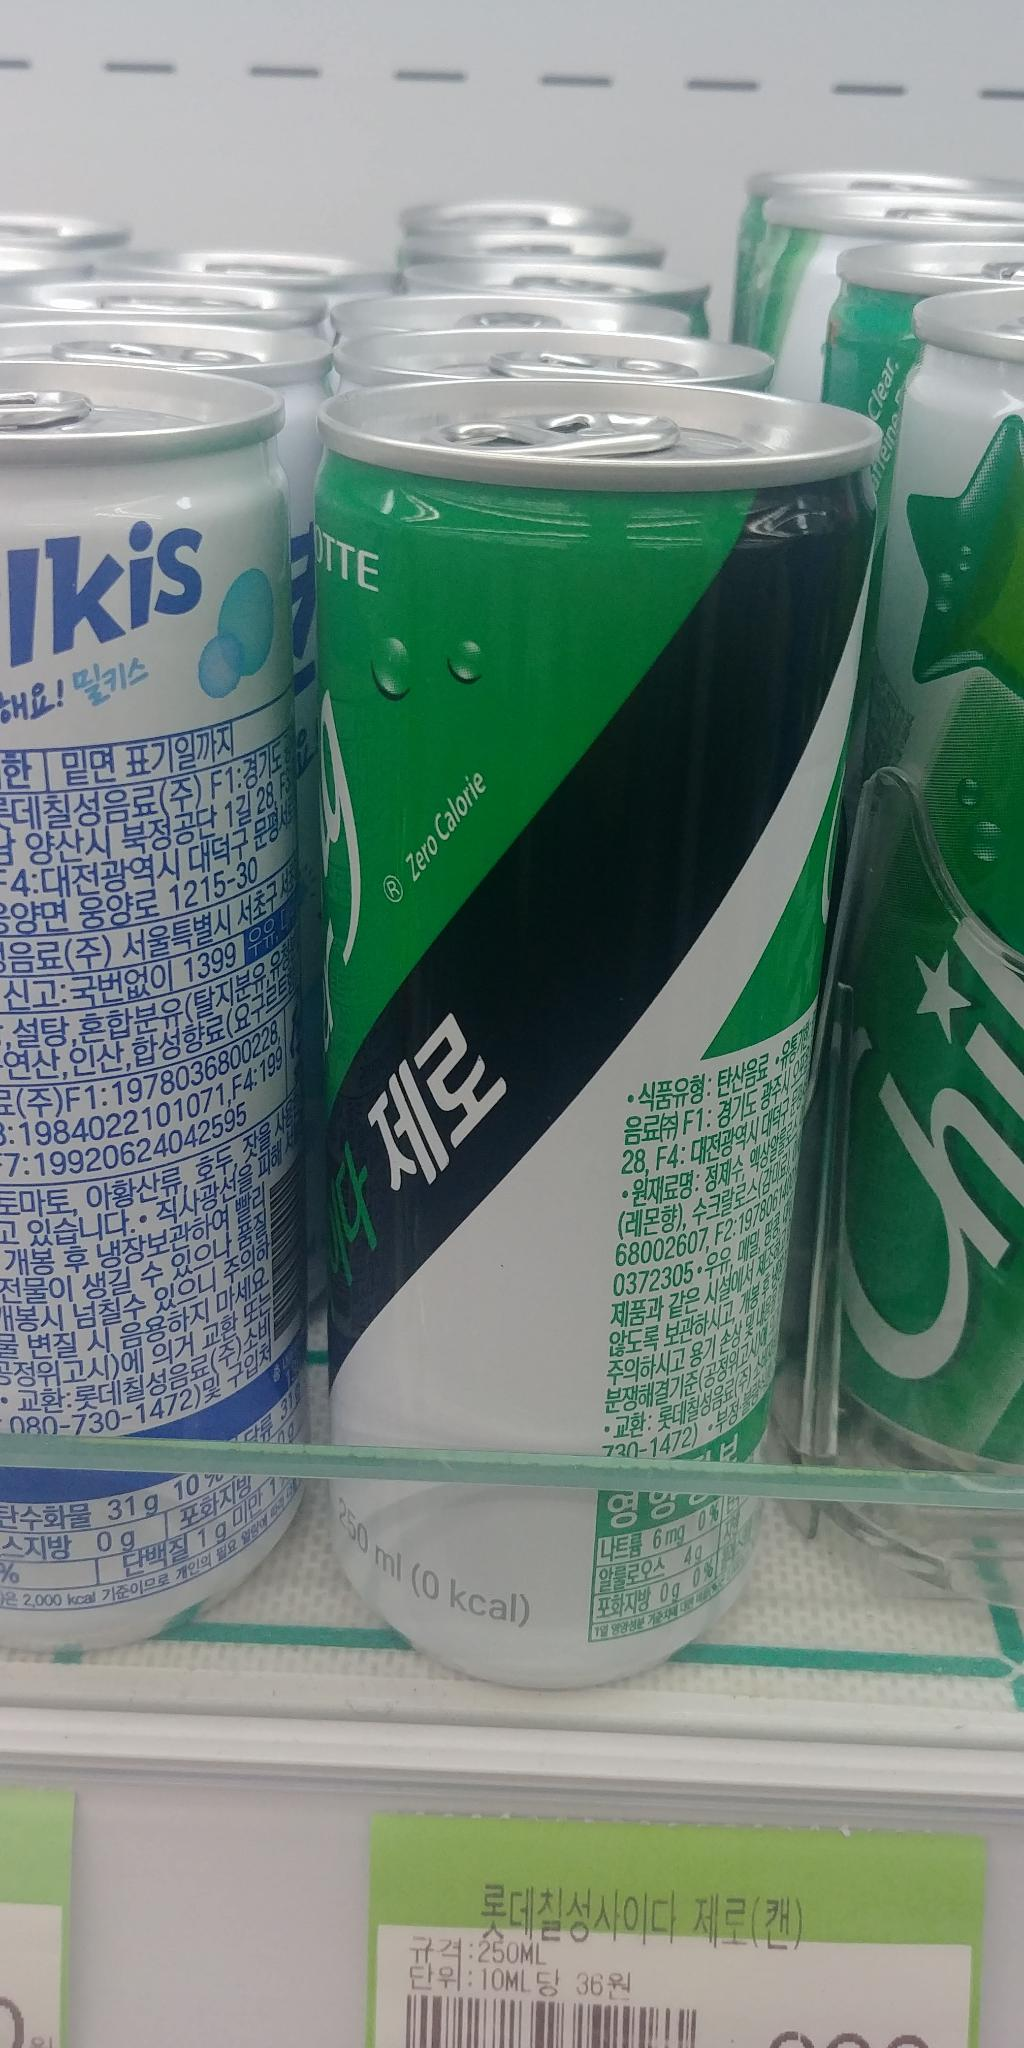chilsungcider_zero: (296, 354, 819, 1694)
